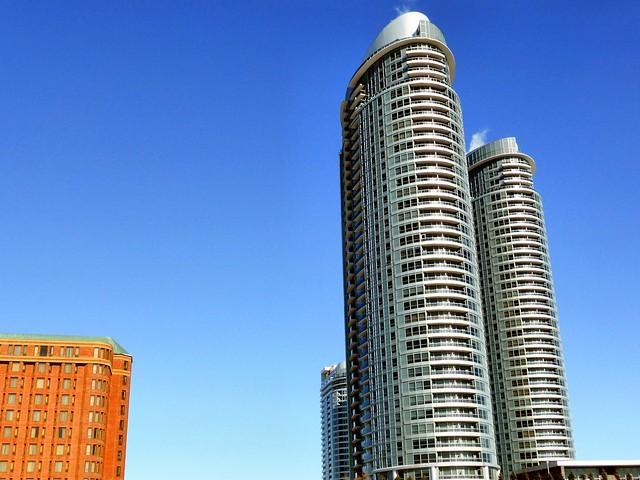building: (337, 8, 502, 480), (460, 133, 579, 478)
